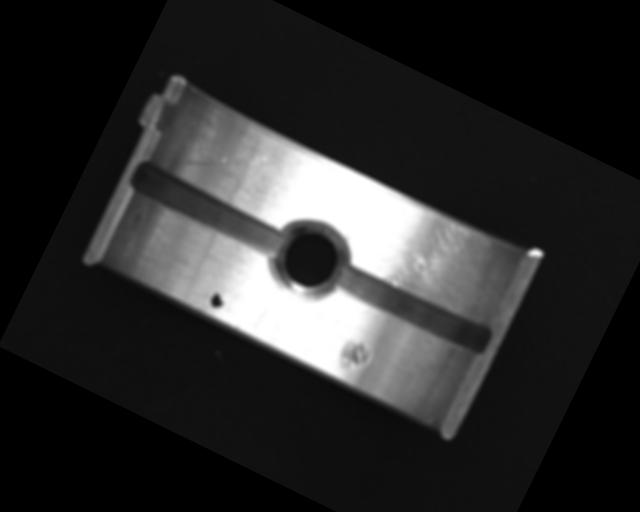blot: (207, 286, 230, 312)
bruise: (333, 334, 374, 379)
gap: (328, 253, 497, 361), (126, 158, 287, 260)
hole: (258, 209, 358, 311)
nick: (181, 123, 270, 197)
scratch: (344, 184, 517, 328)
